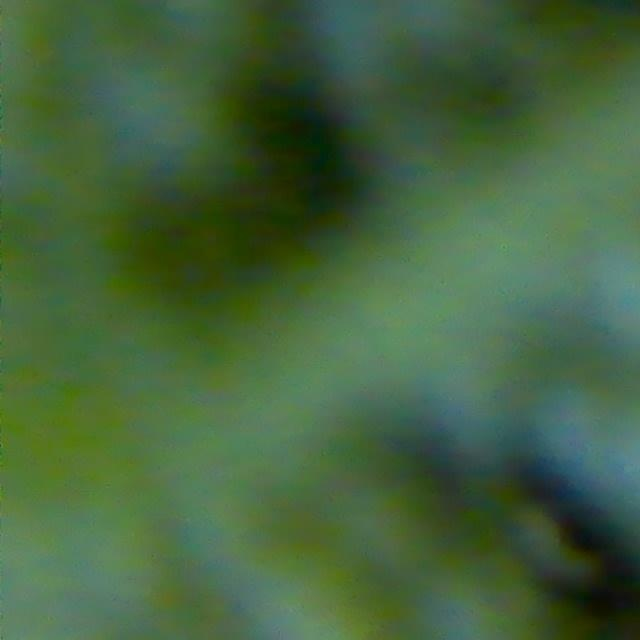SeaGrape: (423, 335, 529, 459)
